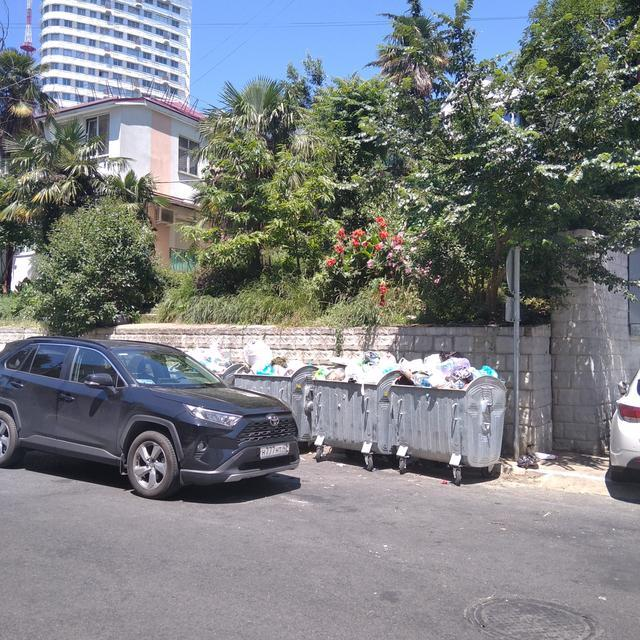Trash_Can_Full: (389, 349, 509, 467), (313, 351, 403, 453), (234, 339, 318, 442)
